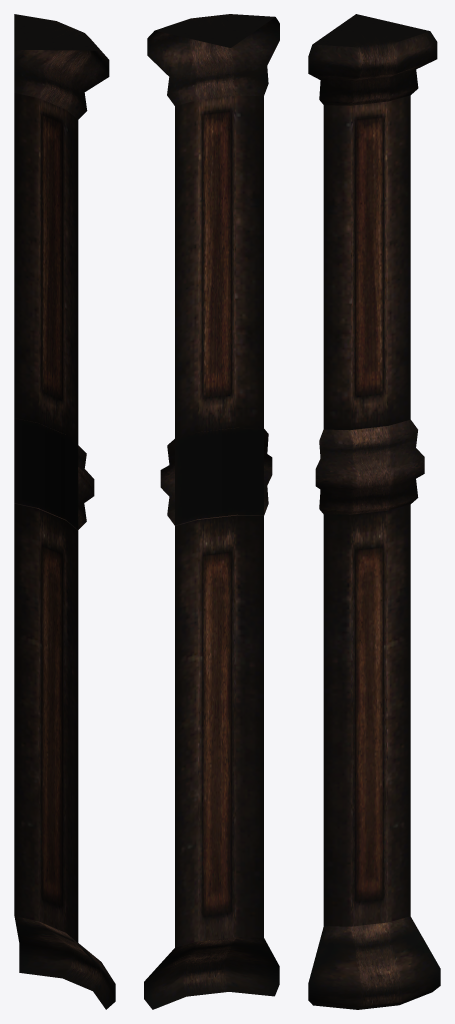
File: welder02_concave.dae
The picture shows the model from 3 angles, left to right: view 1: azimuth 90°, elevation 25°; view 2: azimuth 150°, elevation 25°; view 3: azimuth 330°, elevation 25°; orthographic projection. The views are drawn at different scales.
Visible parts, largest first — view 1: welder02_concave; view 2: welder02_concave; view 3: welder02_concave.
Part boxes in pixels (x1,y1,x2,y2): welder02_concave: (14, 14, 115, 1009); welder02_concave: (144, 14, 279, 1009); welder02_concave: (308, 14, 440, 1009).
Bounding box in the file's own units: 0.3489 × 3.64 × 0.3489.
